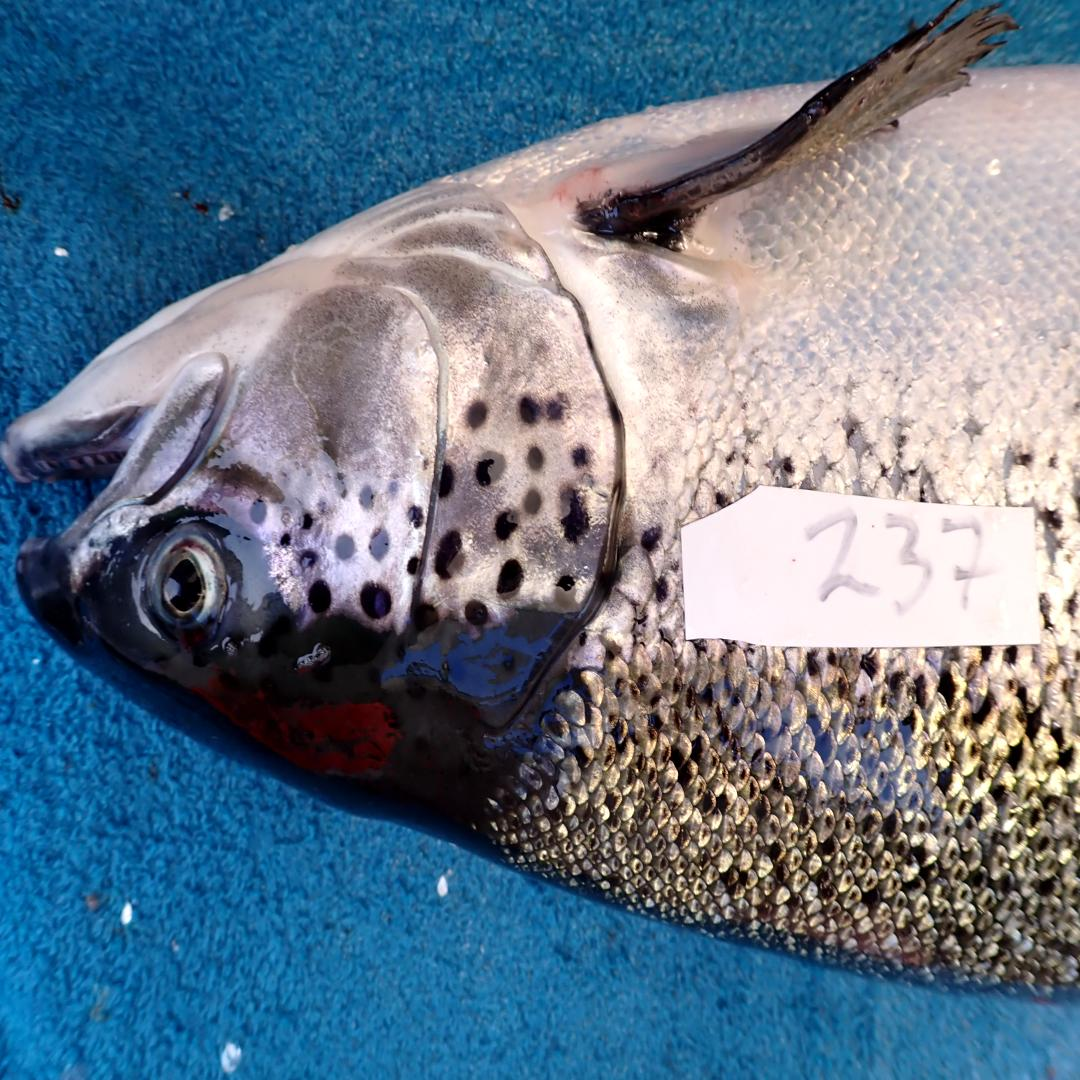roi: (236, 177, 624, 633)
